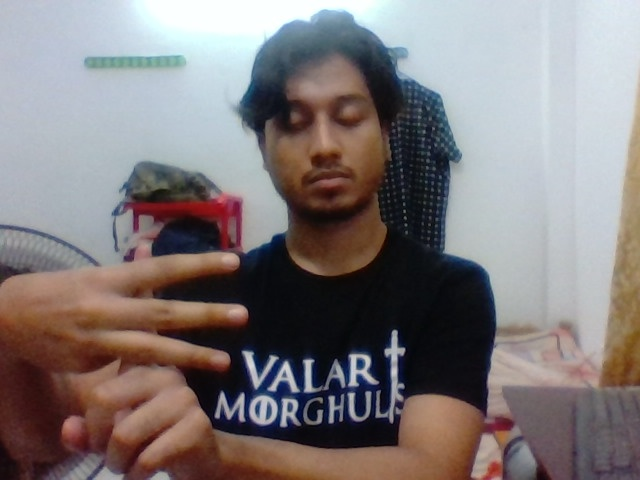E: (61, 227, 276, 464)
